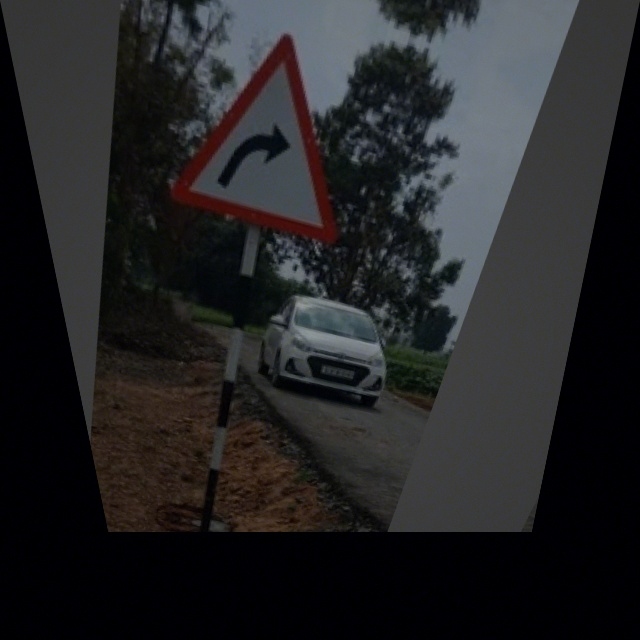Right_Hand_Curve: (151, 8, 377, 242)
